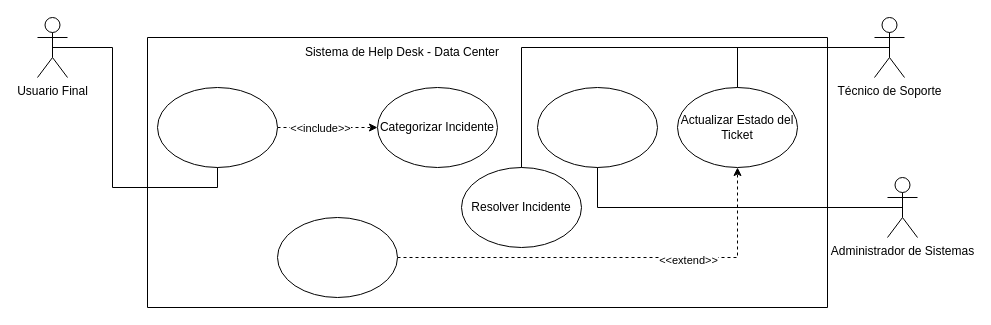
Some shapes in this 991 by 325 pixel diagram are drawn without their labels. The centre of each missing label's shape, as x and y in pixels:
"Asignar Técnico de Soporte" goes at (597,127).
"Crear Ticket de Incidente" goes at (217,127).
"Escalar Ticket" goes at (337,257).
